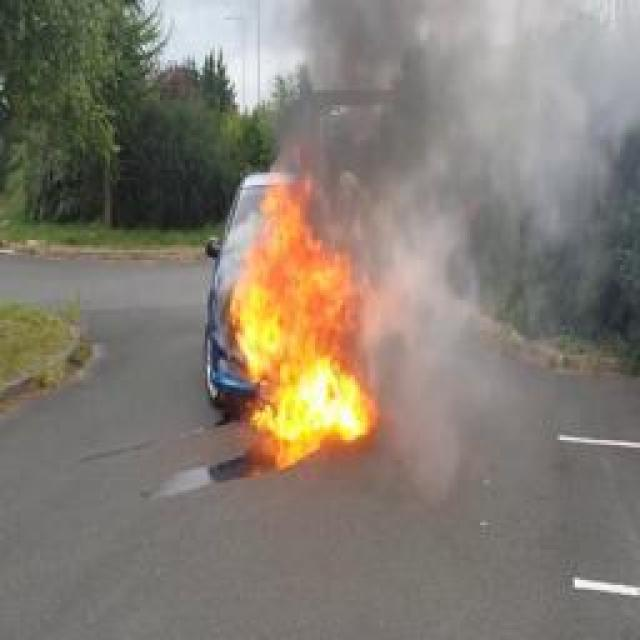fire: (220, 181, 384, 480)
smoke: (387, 11, 595, 396)
